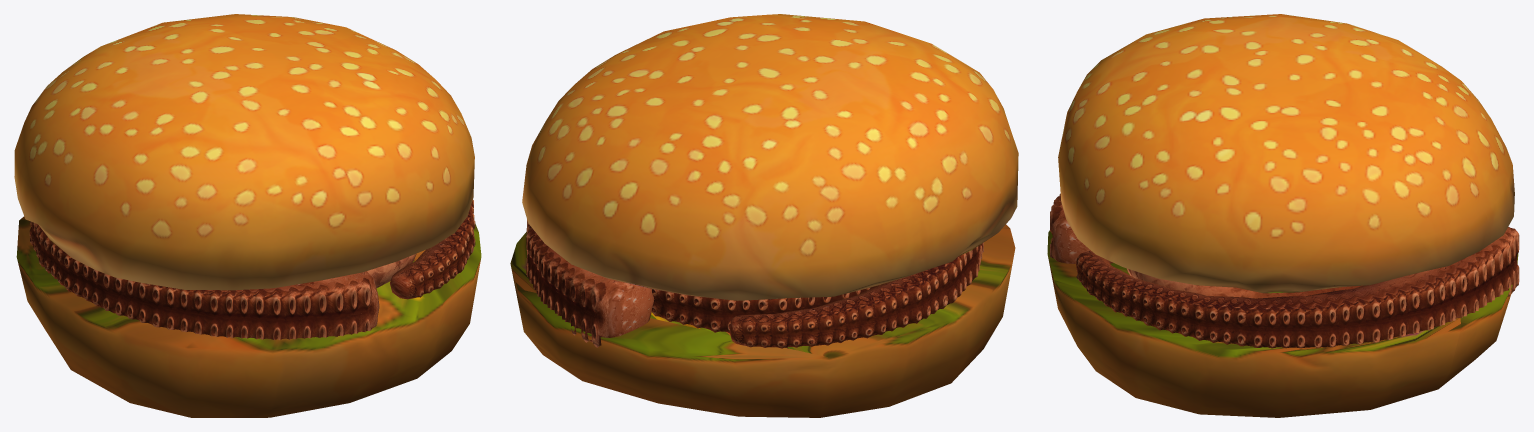
The model's file is deneme.fbx.
The picture shows the model from 3 angles, left to right: view 1: azimuth 30°, elevation 25°; view 2: azimuth 150°, elevation 25°; view 3: azimuth 270°, elevation 25°; orthographic projection. The views are drawn at different scales.
Parts seen in each view (by area): view 1: SM_BurgerDouble_BurgerDouble_0.004, SM_BurgerDouble_BurgerDouble_0.003, Mesh_0.011, Mesh_0.014, Mesh_0.016; view 2: SM_BurgerDouble_BurgerDouble_0.004, SM_BurgerDouble_BurgerDouble_0.003, Mesh_0.011, Mesh_0.014, Mesh_0.015; view 3: SM_BurgerDouble_BurgerDouble_0.004, SM_BurgerDouble_BurgerDouble_0.003, Mesh_0.014, Mesh_0.016, Mesh_0.011.
Boxes of the visible parts, x1,y1,x2,y2 form: SM_BurgerDouble_BurgerDouble_0.004: (14,14,474,290); SM_BurgerDouble_BurgerDouble_0.003: (16,216,481,417); Mesh_0.011: (29,221,379,340); Mesh_0.014: (390,200,475,299); Mesh_0.016: (367,253,416,288); SM_BurgerDouble_BurgerDouble_0.004: (522,14,1018,300); SM_BurgerDouble_BurgerDouble_0.003: (510,224,1015,417); Mesh_0.011: (729,242,983,348); Mesh_0.014: (526,219,654,347); Mesh_0.015: (652,283,885,333); SM_BurgerDouble_BurgerDouble_0.004: (1058,14,1514,293); SM_BurgerDouble_BurgerDouble_0.003: (1047,230,1518,417); Mesh_0.014: (1076,227,1519,348); Mesh_0.016: (1127,268,1362,298); Mesh_0.011: (1050,193,1112,263).
Size of the model in its own units: 32.5 by 21.02 by 32.92.
